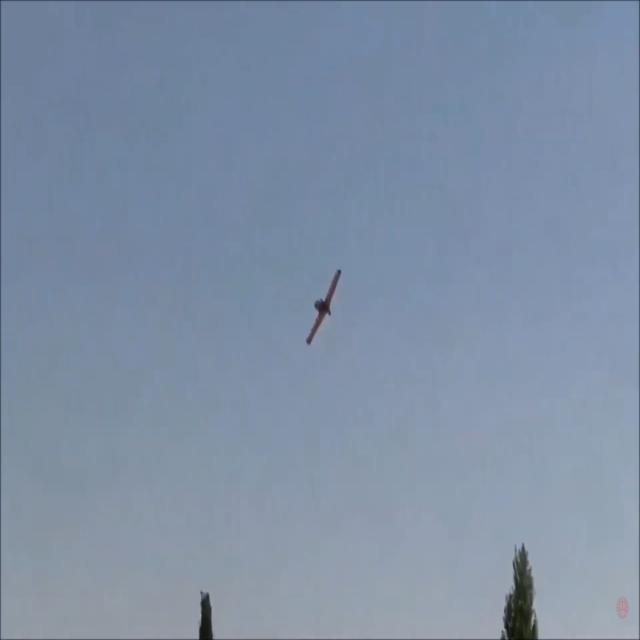UAV: (308, 268, 368, 378)
